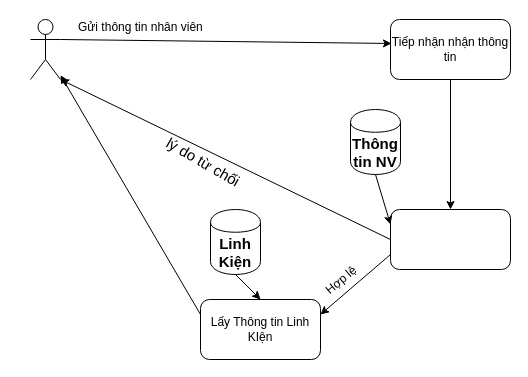
This 528x377 diagram has some shape labels left out. The centre of each missing label's shape, as x and y in pixels:
"Kiểm tra thông tin" belongs at pixel 450 239.
"Nhân Viên" belongs at pixel 45 49.
